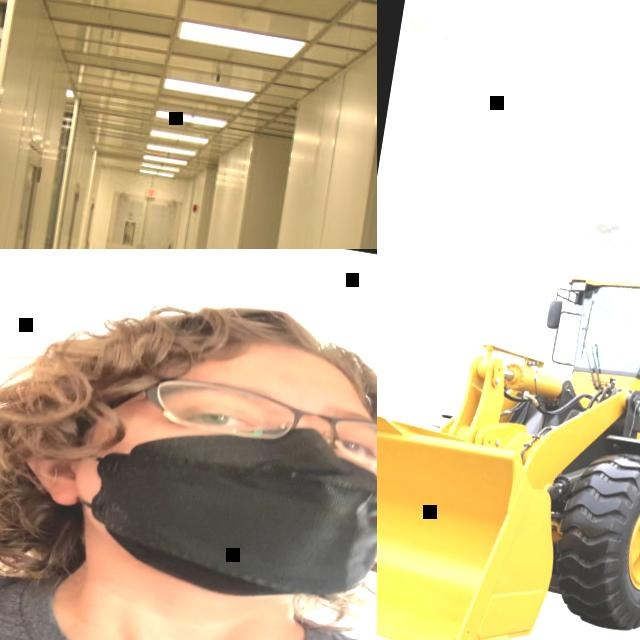Mask: (30, 388, 377, 617)
NO-Hardhat: (34, 272, 377, 414)
NO-Safety Vest: (0, 546, 377, 640)
Person: (0, 249, 377, 640)
machinery: (377, 249, 640, 640)
